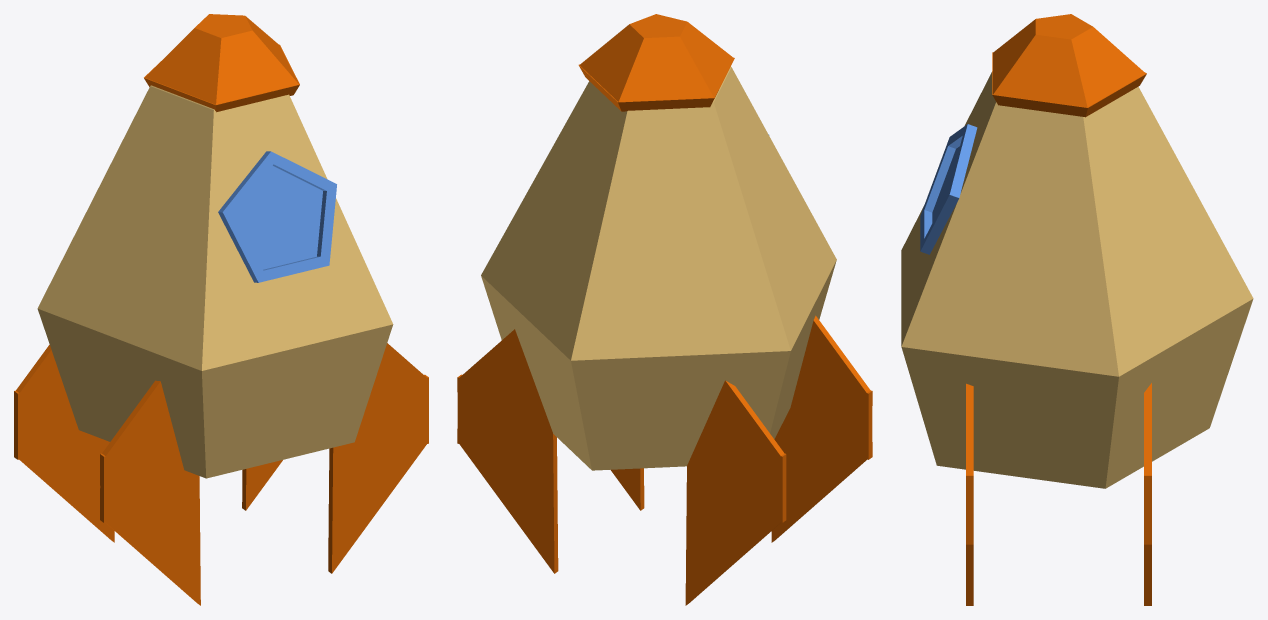
Rendered from Rocket3.fbx.
The picture shows the model from 3 angles, left to right: view 1: azimuth 30°, elevation 25°; view 2: azimuth 150°, elevation 25°; view 3: azimuth 270°, elevation 25°; orthographic projection. The views are drawn at different scales.
Parts seen in each view (by area): view 1: ROCKET, Plane, WINDOW, ROCKET HEAD; view 2: ROCKET, Plane, ROCKET HEAD; view 3: ROCKET, ROCKET HEAD, Plane, WINDOW.
Part boxes in pixels (x1,y1,x2,y2): ROCKET: (37, 85, 393, 478); Plane: (14, 343, 428, 605); WINDOW: (218, 151, 336, 282); ROCKET HEAD: (144, 14, 299, 112); ROCKET: (481, 66, 836, 470); Plane: (457, 315, 872, 605); ROCKET HEAD: (578, 14, 734, 111); ROCKET: (901, 71, 1253, 488); ROCKET HEAD: (992, 14, 1146, 117); Plane: (966, 383, 1151, 605); WINDOW: (920, 124, 977, 254).
Size of the model in its own units: 270 by 421 by 245.
